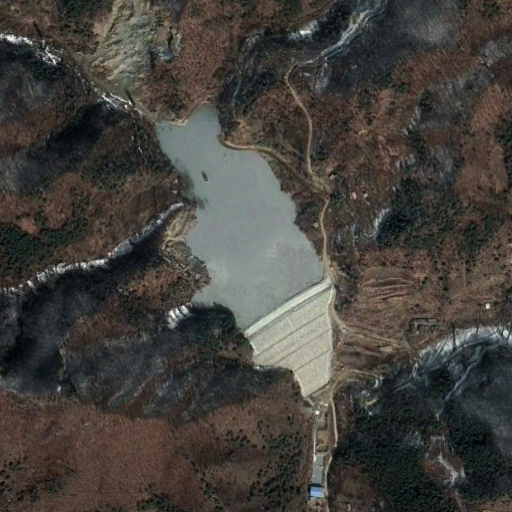tp: (154, 103, 332, 395)
